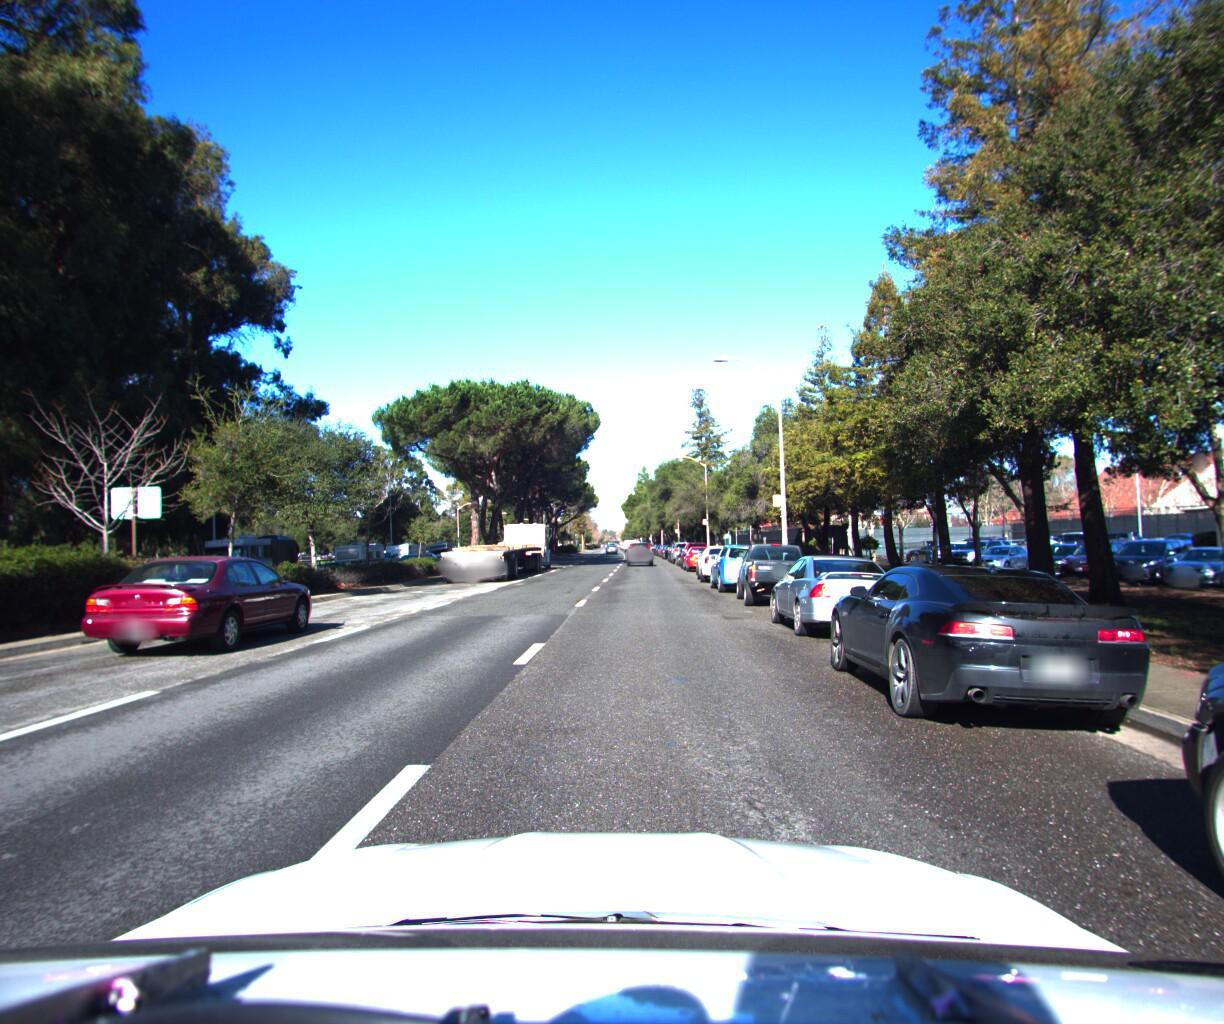car: (815, 550, 1184, 750), (81, 545, 321, 663), (761, 544, 916, 644), (732, 534, 824, 605), (705, 536, 778, 592), (694, 537, 750, 579), (680, 538, 720, 567), (678, 534, 712, 564), (622, 533, 653, 563)
other_vehicle: (195, 528, 302, 585), (329, 535, 388, 571)
truck: (438, 490, 562, 589)
